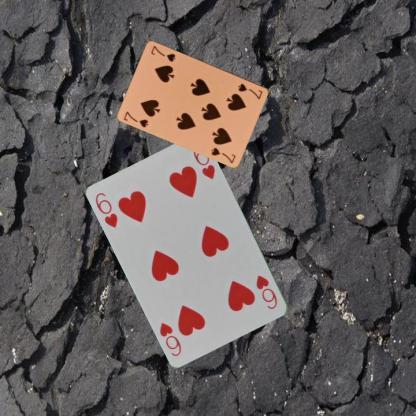6h: (93, 190, 119, 230), (254, 272, 280, 311)
7s: (235, 80, 264, 100), (121, 108, 150, 128)
